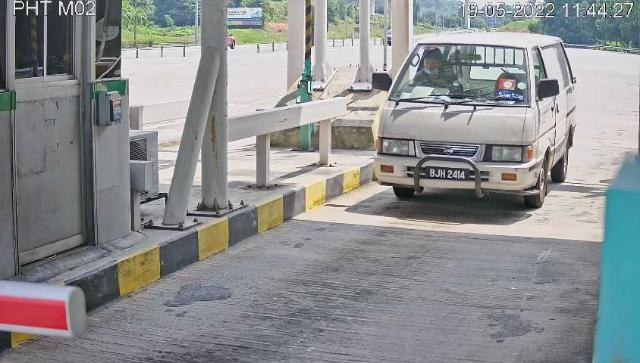License_Plate: (426, 166, 471, 185)
van: (374, 33, 577, 210)
